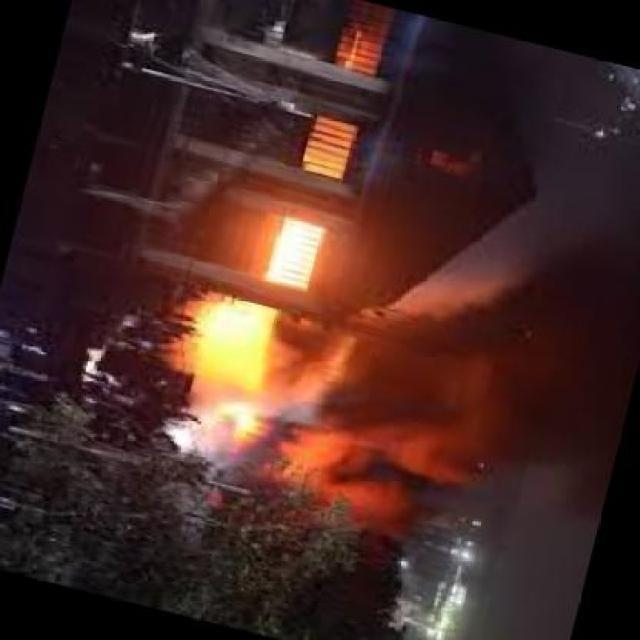Fire: (259, 420, 451, 538), (258, 305, 350, 425), (190, 291, 268, 406), (260, 192, 321, 311)
Smoke: (357, 246, 640, 420), (454, 412, 608, 530)
